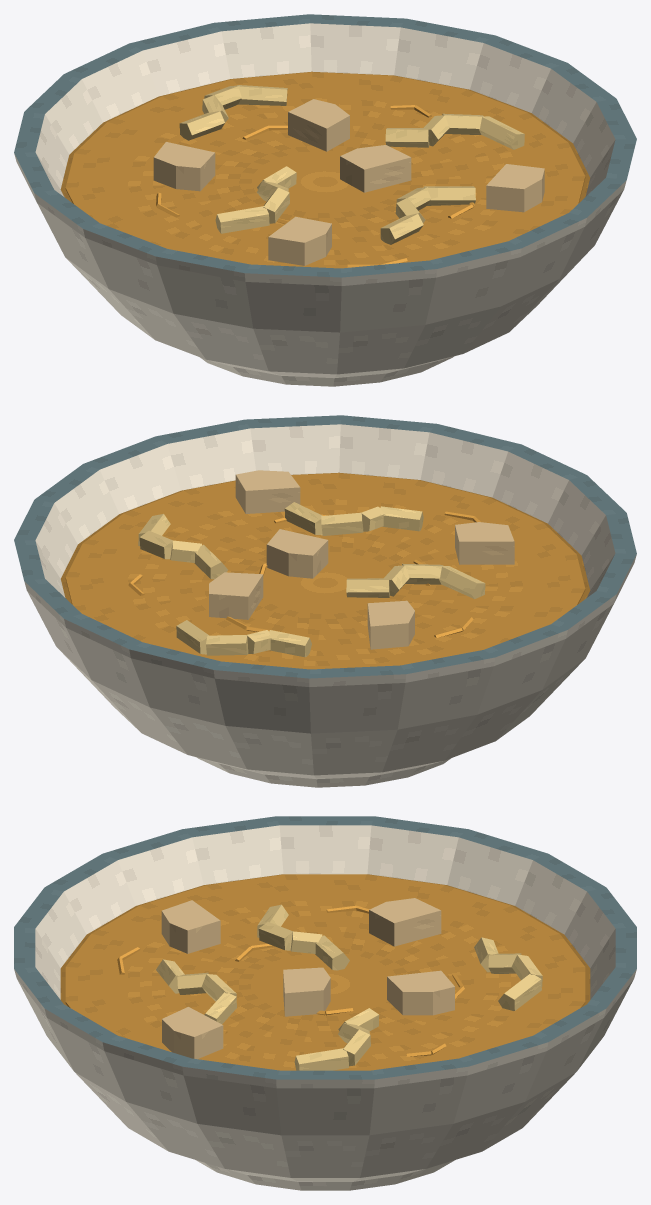
The model's file is soup_chicken.glb.
3 views of the same model, one above another, from view 1: azimuth 30°, elevation 25°; view 2: azimuth 150°, elevation 25°; view 3: azimuth 270°, elevation 25° (orthographic).
Parts seen in each view (by area): view 1: block_deep open soup bowl, block_soup surface, block_chicken piece (×5), block_wide ribbon noodle 0 (×4), block_wide ribbon noodle 3 (×3), block_shaded liquid meniscus, block_wide ribbon noodle 1 (×2); view 2: block_deep open soup bowl, block_soup surface, block_chicken piece (×5), block_wide ribbon noodle 3 (×4), block_wide ribbon noodle 1 (×4), block_wide ribbon noodle 0 (×3), block_shaded liquid meniscus, block_wide ribbon noodle 2; view 3: block_deep open soup bowl, block_soup surface, block_chicken piece (×5), block_wide ribbon noodle 0 (×3), block_wide ribbon noodle 1 (×3), block_wide ribbon noodle 2 (×3), block_shaded liquid meniscus, block_wide ribbon noodle 3 (×2).
Part boxes in pixels (x1,y1,x2,y2): block_deep open soup bowl: (14,14,636,386); block_soup surface: (65,72,585,268); block_chicken piece (×5): (153,99,544,265); block_wide ribbon noodle 0 (×4): (215,85,524,233); block_wide ribbon noodle 3 (×3): (179,111,429,244); block_shaded liquid meniscus: (60,71,589,202); block_wide ribbon noodle 1 (×2): (263,113,484,223); block_deep open soup bowl: (14,415,636,787); block_soup surface: (65,473,585,669); block_chicken piece (×5): (209,470,514,649); block_wide ribbon noodle 3 (×4): (194,506,423,657); block_wide ribbon noodle 1 (×4): (139,512,444,655); block_wide ribbon noodle 0 (×3): (176,502,485,654); block_shaded liquid meniscus: (61,472,590,603); block_wide ribbon noodle 2: (170,540,201,562); block_deep open soup bowl: (14,816,636,1190); block_soup surface: (65,874,585,1070); block_chicken piece (×5): (161,898,454,1059); block_wide ribbon noodle 0 (×3): (204,973,541,1070); block_wide ribbon noodle 1 (×3): (201,922,370,1066); block_wide ribbon noodle 2 (×3): (177,931,521,994); block_shaded liquid meniscus: (60,874,590,1006); block_wide ribbon noodle 3 (×2): (156,935,349,993).
Bounding box in the file's own units: 0.1437 × 0.0455 × 0.1437.
1 material, 1 textured.
